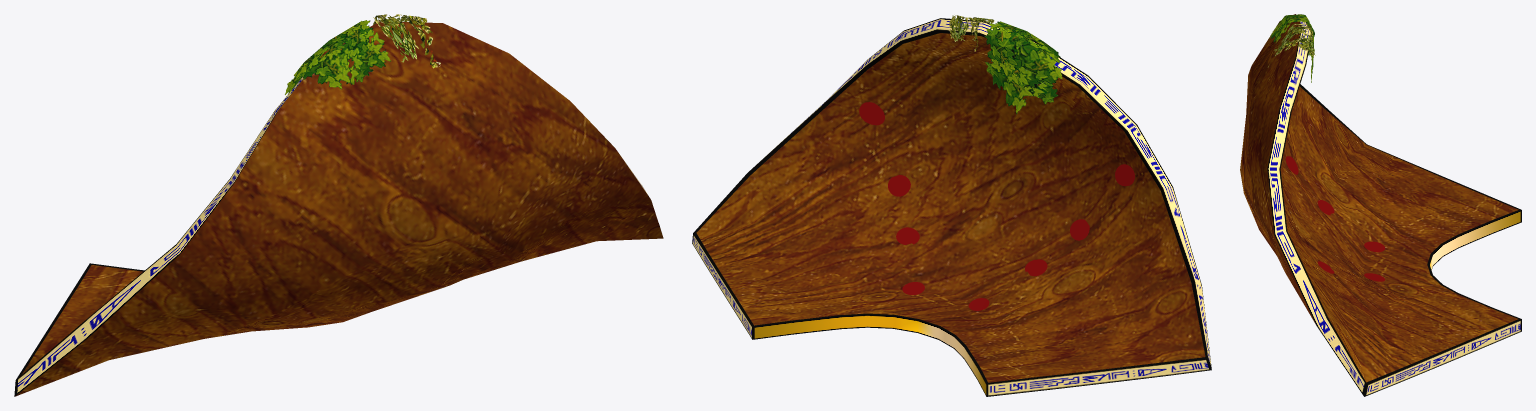
Rendered from jungle_concave_corner.gltf.
3 renders of one model, left to right at view 1: azimuth 30°, elevation 25°; view 2: azimuth 150°, elevation 25°; view 3: azimuth 270°, elevation 25°, orthographic. The views are drawn at different scales.
Visible parts, largest first — view 1: jungle_concave_corner_glb; view 2: jungle_concave_corner_glb; view 3: jungle_concave_corner_glb.
Part boxes in pixels (<box>): jungle_concave_corner_glb: <box>14,14,663,396</box>; jungle_concave_corner_glb: <box>692,15,1211,396</box>; jungle_concave_corner_glb: <box>1240,14,1521,396</box>.
Size of what is drawn, in the model's own units: 10.12 by 4.91 by 4.97.
2 materials, 2 textured.
